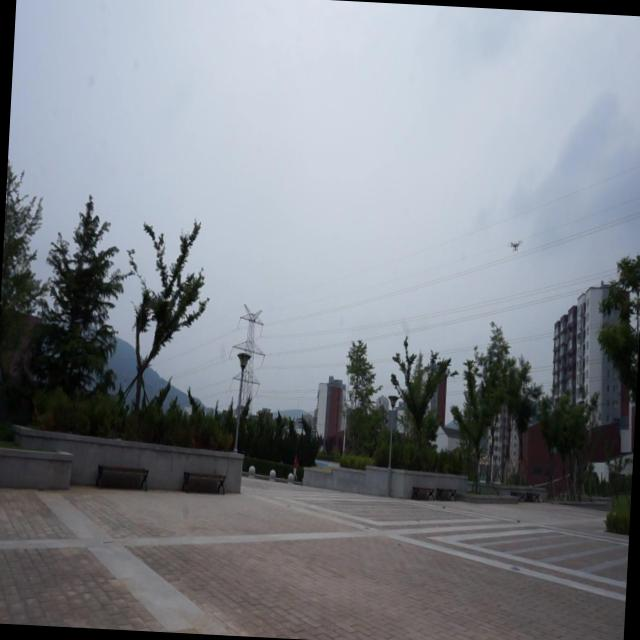drone: (506, 237, 524, 254)
